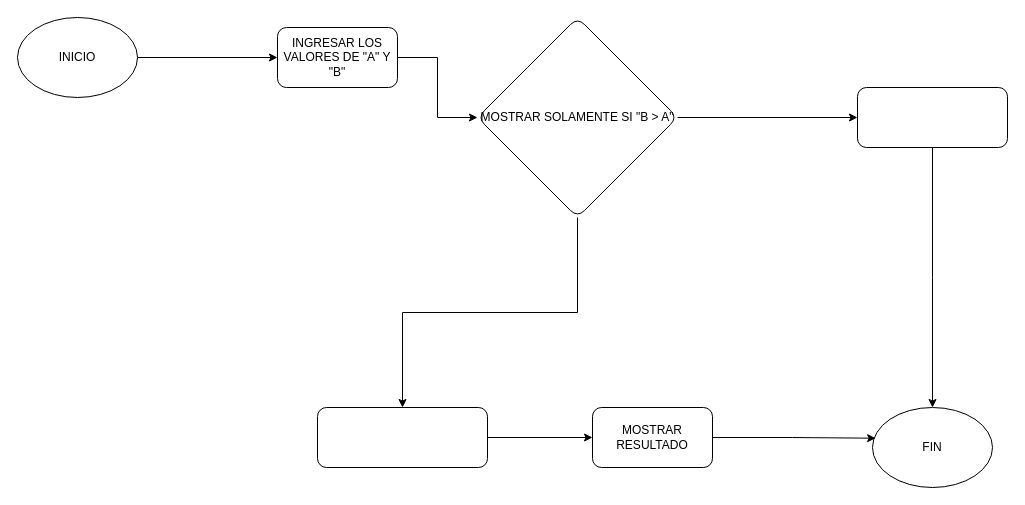
This 1025x505 diagram has some shape labels left out. Each missing label, with the box of its shape:
NO: (856, 86, 1008, 148)
SI: (316, 406, 488, 468)
